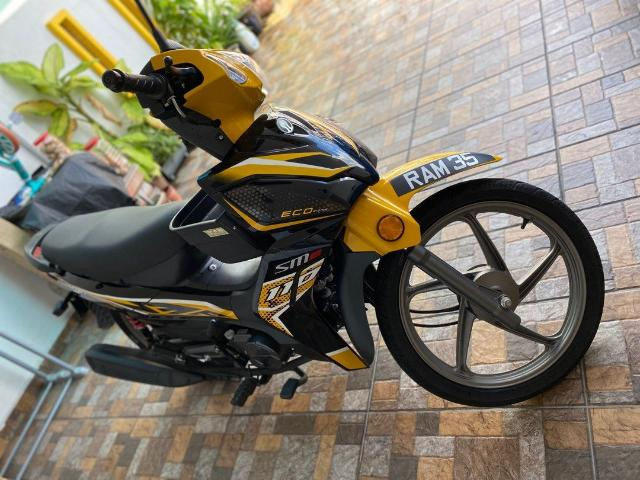License_Plate: (390, 151, 497, 200)
motorcycle: (22, 41, 606, 410)
